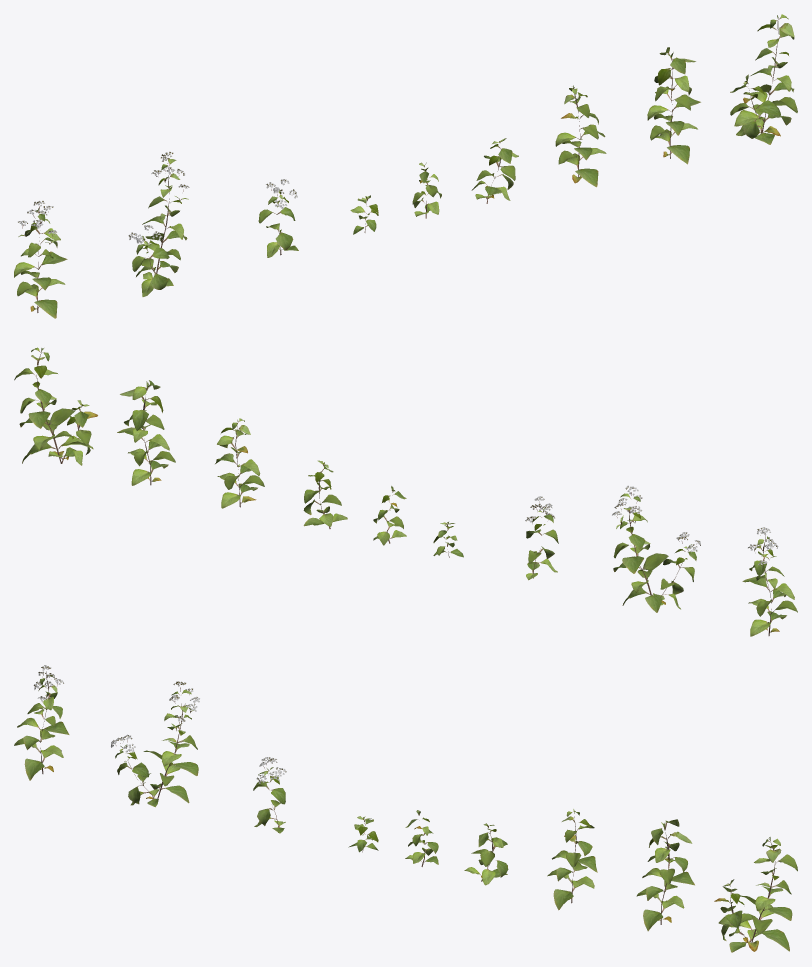
The model's file is shrub_01_lod1.glb.
The picture shows the model from 3 angles, top to bottom: view 1: azimuth 30°, elevation 25°; view 2: azimuth 150°, elevation 25°; view 3: azimuth 330°, elevation 25°; orthographic projection. The views are drawn at different scales.
Parts seen in each view (by area): view 1: shrub_01_a; view 2: shrub_01_a; view 3: shrub_01_a.
Part boxes in pixels (<box>): shrub_01_a: <box>14,14,797,318</box>; shrub_01_a: <box>14,347,797,636</box>; shrub_01_a: <box>14,665,797,952</box>.
Size of the model in its own units: 2.59 by 0.3956 by 0.2181.
Materials: 1 (1 with a texture image).
